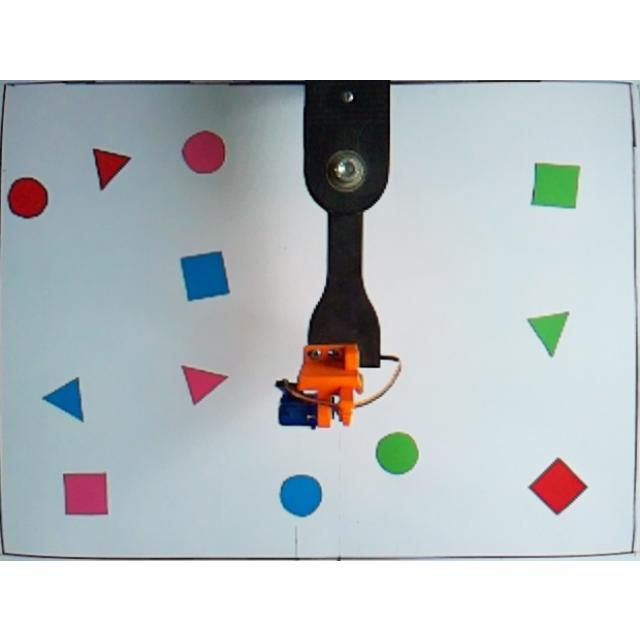blueCircle: (278, 469, 324, 518)
blueSquare: (178, 247, 232, 303)
blueTriangle: (40, 375, 91, 425)
greenCircle: (374, 428, 420, 474)
greenSquare: (526, 160, 582, 210)
greenTriangle: (524, 308, 572, 359)
pinkCircle: (178, 128, 228, 174)
pinkSquare: (58, 468, 110, 516)
pinkTriangle: (180, 361, 232, 405)
redCircle: (5, 173, 50, 221)
redSquare: (526, 454, 590, 518)
redTriangle: (88, 144, 132, 190)
